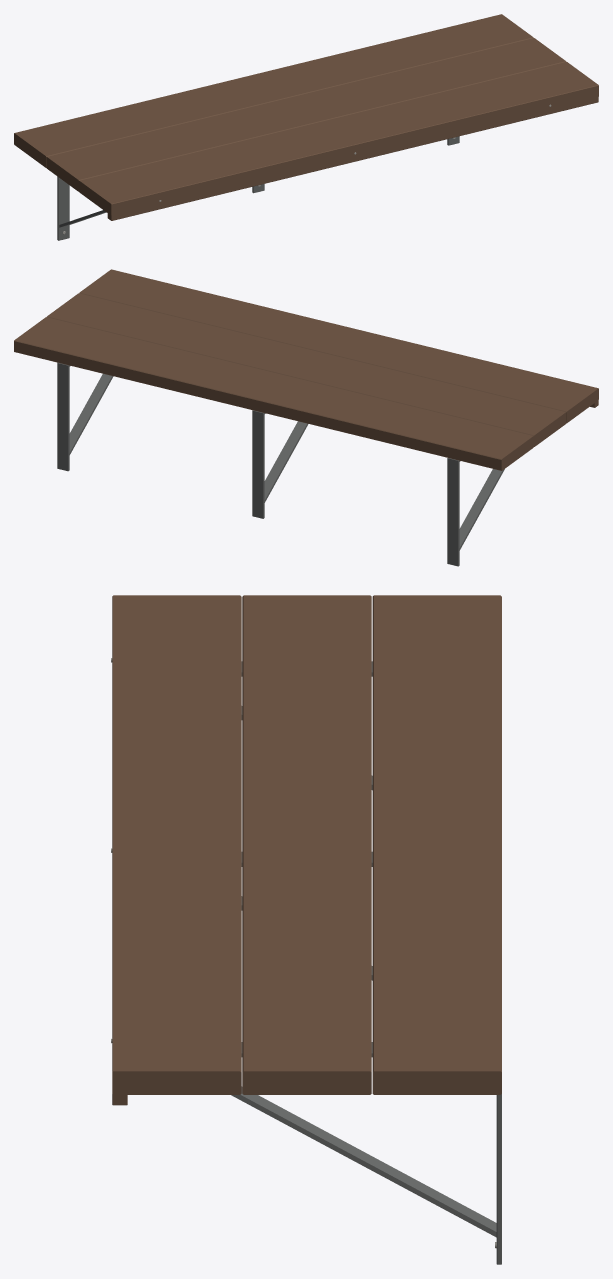
File: storage-shelf-high-715aaf9ae2d4.glb
3 views of the same model, one above another, from view 1: azimuth 30°, elevation 25°; view 2: azimuth 150°, elevation 25°; view 3: azimuth 270°, elevation 25° (orthographic). The views are drawn at different scales.
Visible parts, largest first — view 1: wood, metal; view 2: wood, metal; view 3: wood, metal.
Part boxes in pixels (<box>): wood: <box>14,14,598,220</box>; metal: <box>57,136,459,240</box>; wood: <box>14,269,598,470</box>; metal: <box>57,362,504,566</box>; wood: <box>112,595,501,1105</box>; metal: <box>231,661,501,1264</box>.
Size of the model in its own units: 1.3 by 0.3 by 0.4513.
